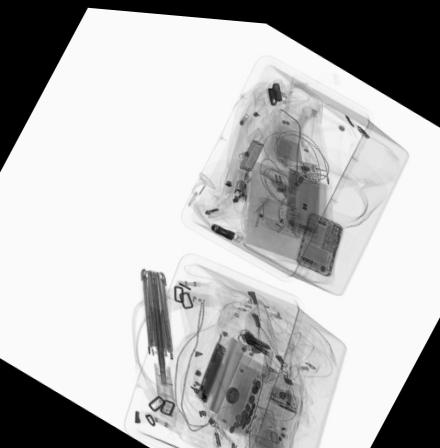Lighter: (254, 192, 263, 214)
